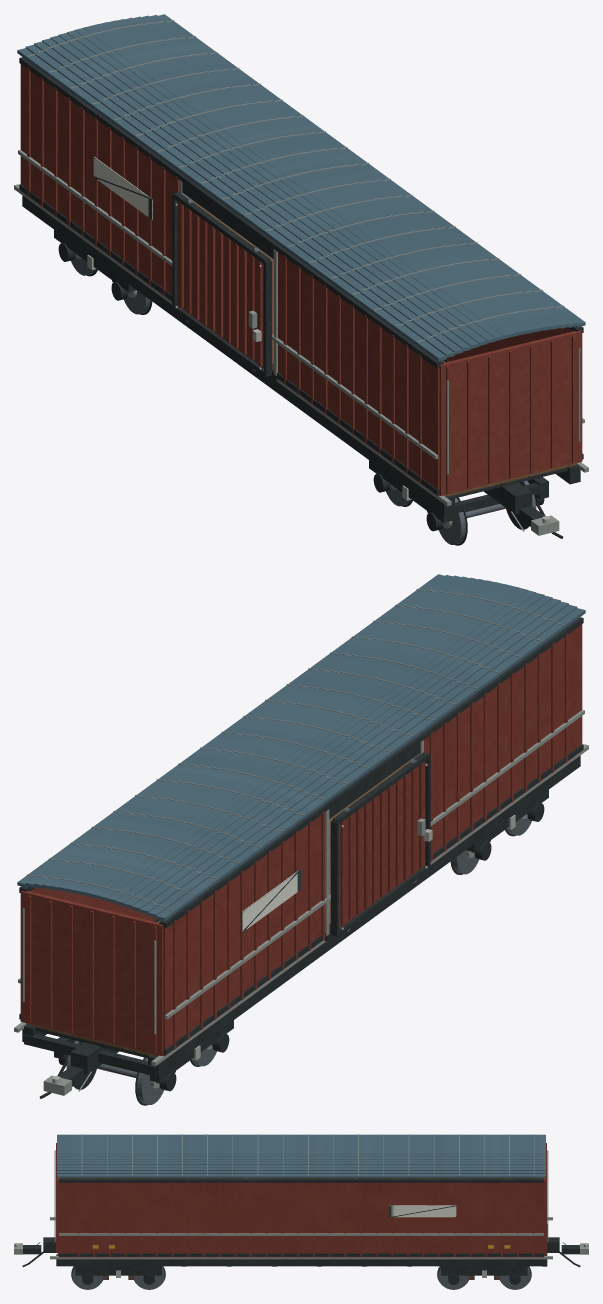
The picture shows the model from 3 angles, top to bottom: view 1: azimuth 30°, elevation 25°; view 2: azimuth 150°, elevation 25°; view 3: azimuth 270°, elevation 25°; orthographic projection. The views are drawn at different scales.
Visible parts, largest first — view 1: VIS_RAISED_ROOF_PANELS__BLUE_GREY, VIS_STEEL_WALL_PANELS__OXIDE_RED, VIS_END_WALLS__OXIDE_RED, VIS_CORRUGATED_RIBS__OXIDE_RED, VIS_TOP_AND_LOWER_RAILS__FRAME_BLACK, VIS_BOXCAR_SLIDING_DOOR__OXIDE_RED, VIS_DOOR_CORRUGATIONS__OXIDE_RED, VIS_ROOF_SEAM_JOINTS__GALVANIZED, VIS_UNDERFRAME_SIDE_SILLS__FRAME_BLACK, VIS_END_CORRUGATIONS__OXIDE_RED, VIS_DOOR_PERIMETER__FRAME_BLACK, VIS_SIDE_STIFFENER_BAND__GALVANIZED (+9 smaller); view 2: VIS_RAISED_ROOF_PANELS__BLUE_GREY, VIS_STEEL_WALL_PANELS__OXIDE_RED, VIS_END_WALLS__OXIDE_RED, VIS_CORRUGATED_RIBS__OXIDE_RED, VIS_TOP_AND_LOWER_RAILS__FRAME_BLACK, VIS_BOXCAR_SLIDING_DOOR__OXIDE_RED, VIS_DOOR_CORRUGATIONS__OXIDE_RED, VIS_ROOF_SEAM_JOINTS__GALVANIZED, VIS_UNDERFRAME_SIDE_SILLS__FRAME_BLACK, VIS_END_CORRUGATIONS__OXIDE_RED, VIS_DOOR_PERIMETER__FRAME_BLACK, VIS_SIDE_STIFFENER_BAND__GALVANIZED (+10 smaller); view 3: VIS_STEEL_WALL_PANELS__OXIDE_RED, VIS_RAISED_ROOF_PANELS__BLUE_GREY, VIS_CORRUGATED_RIBS__OXIDE_RED, VIS_TOP_AND_LOWER_RAILS__FRAME_BLACK, VIS_UNDERFRAME_SIDE_SILLS__FRAME_BLACK, VIS_BOGIE_SIDEFRAMES__FRAME_BLACK, VIS_UNDERFRAME_EDGE_TRIM__GALVANIZED, VIS_SIDE_STIFFENER_BAND__GALVANIZED, VIS_WHEELS__WHEEL_STEEL, VIS_ROOF_SEAM_JOINTS__GALVANIZED, VIS_ORIGINAL_WAGON_LIVERY__BRAND_Boxcar, VIS_BOX_FLOOR_UNDER__FRAME_BLACK (+6 smaller).
Part boxes in pixels (x1=…): VIS_RAISED_ROOF_PANELS__BLUE_GREY: x1=17, y1=14, x2=585, y2=361; VIS_STEEL_WALL_PANELS__OXIDE_RED: x1=20, y1=64, x2=582, y2=496; VIS_END_WALLS__OXIDE_RED: x1=439, y1=330, x2=581, y2=495; VIS_CORRUGATED_RIBS__OXIDE_RED: x1=27, y1=67, x2=421, y2=483; VIS_TOP_AND_LOWER_RAILS__FRAME_BLACK: x1=19, y1=57, x2=583, y2=494; VIS_BOXCAR_SLIDING_DOOR__OXIDE_RED: x1=177, y1=201, x2=272, y2=371; VIS_DOOR_CORRUGATIONS__OXIDE_RED: x1=180, y1=203, x2=262, y2=366; VIS_ROOF_SEAM_JOINTS__GALVANIZED: x1=27, y1=20, x2=564, y2=342; VIS_UNDERFRAME_SIDE_SILLS__FRAME_BLACK: x1=22, y1=195, x2=580, y2=514; VIS_END_CORRUGATIONS__OXIDE_RED: x1=446, y1=335, x2=575, y2=493; VIS_DOOR_PERIMETER__FRAME_BLACK: x1=172, y1=192, x2=271, y2=376; VIS_SIDE_STIFFENER_BAND__GALVANIZED: x1=18, y1=150, x2=584, y2=459; VIS_RAISED_ROOF_PANELS__BLUE_GREY: x1=17, y1=574, x2=585, y2=921; VIS_STEEL_WALL_PANELS__OXIDE_RED: x1=20, y1=624, x2=582, y2=1056; VIS_END_WALLS__OXIDE_RED: x1=21, y1=890, x2=163, y2=1055; VIS_CORRUGATED_RIBS__OXIDE_RED: x1=173, y1=633, x2=567, y2=1049; VIS_TOP_AND_LOWER_RAILS__FRAME_BLACK: x1=19, y1=617, x2=583, y2=1054; VIS_BOXCAR_SLIDING_DOOR__OXIDE_RED: x1=330, y1=761, x2=425, y2=931; VIS_DOOR_CORRUGATIONS__OXIDE_RED: x1=340, y1=763, x2=422, y2=926; VIS_ROOF_SEAM_JOINTS__GALVANIZED: x1=27, y1=588, x2=564, y2=910; VIS_UNDERFRAME_SIDE_SILLS__FRAME_BLACK: x1=22, y1=755, x2=580, y2=1074; VIS_END_CORRUGATIONS__OXIDE_RED: x1=27, y1=895, x2=156, y2=1053; VIS_DOOR_PERIMETER__FRAME_BLACK: x1=331, y1=752, x2=430, y2=936; VIS_SIDE_STIFFENER_BAND__GALVANIZED: x1=18, y1=710, x2=584, y2=1019; VIS_STEEL_WALL_PANELS__OXIDE_RED: x1=59, y1=1178, x2=543, y2=1257; VIS_RAISED_ROOF_PANELS__BLUE_GREY: x1=57, y1=1134, x2=545, y2=1177; VIS_CORRUGATED_RIBS__OXIDE_RED: x1=77, y1=1182, x2=534, y2=1256; VIS_TOP_AND_LOWER_RAILS__FRAME_BLACK: x1=59, y1=1178, x2=543, y2=1256; VIS_UNDERFRAME_SIDE_SILLS__FRAME_BLACK: x1=56, y1=1254, x2=546, y2=1266; VIS_BOGIE_SIDEFRAMES__FRAME_BLACK: x1=75, y1=1266, x2=527, y2=1275; VIS_UNDERFRAME_EDGE_TRIM__GALVANIZED: x1=50, y1=1217, x2=552, y2=1259; VIS_SIDE_STIFFENER_BAND__GALVANIZED: x1=59, y1=1233, x2=543, y2=1235; VIS_WHEELS__WHEEL_STEEL: x1=72, y1=1266, x2=530, y2=1289; VIS_ROOF_SEAM_JOINTS__GALVANIZED: x1=81, y1=1134, x2=534, y2=1176; VIS_ORIGINAL_WAGON_LIVERY__BRAND_Boxcar: x1=388, y1=1205, x2=456, y2=1217; VIS_BOX_FLOOR_UNDER__FRAME_BLACK: x1=59, y1=1259, x2=543, y2=1259.
Bounding box in the file's own units: 3.35 × 4.35 × 17.6.
11 materials, 11 textured.
